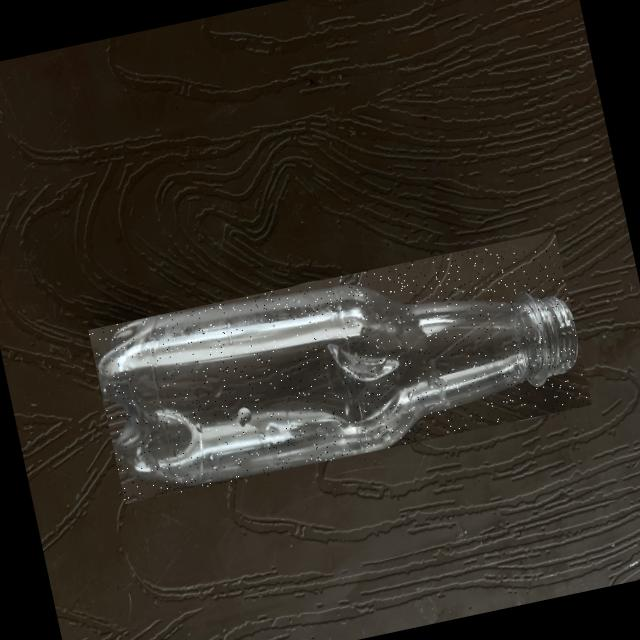PET_With_Liquid: (98, 285, 576, 484)
